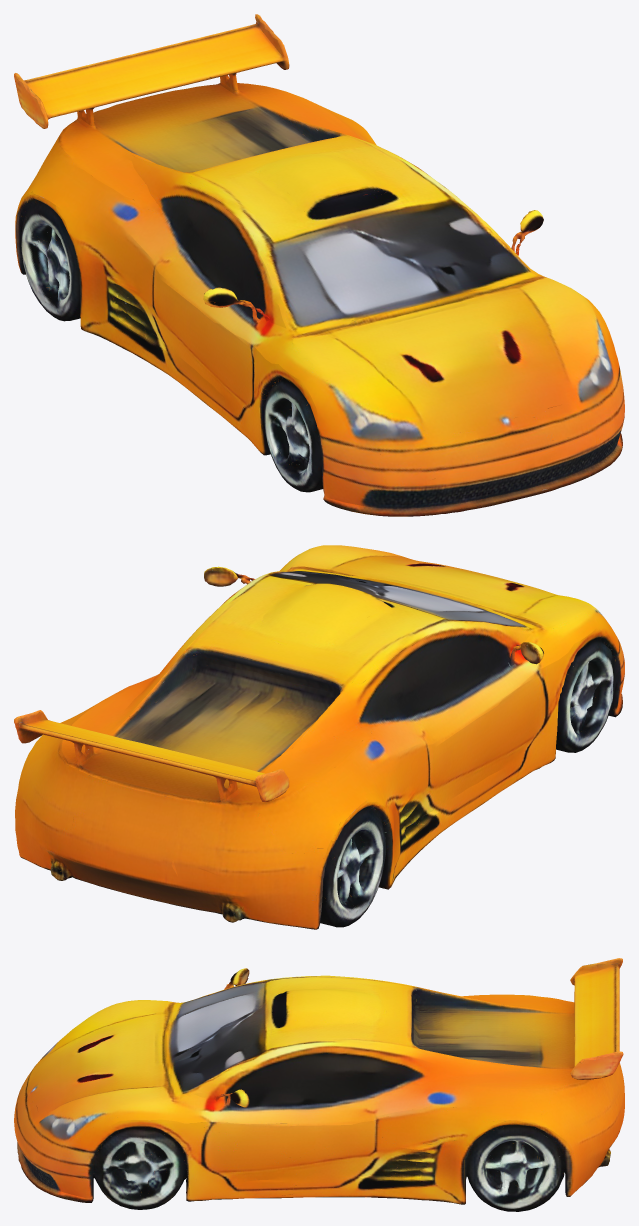
Rendered from car2.glb.
3 views of the same model, one above another, from view 1: azimuth 30°, elevation 25°; view 2: azimuth 150°, elevation 25°; view 3: azimuth 270°, elevation 25° (orthographic). The views are drawn at different scales.
Parts seen in each view (by area): view 1: Mesh; view 2: Mesh; view 3: Mesh.
Part boxes in pixels (x1,y1,x2,y2): Mesh: [14, 14, 624, 516]; Mesh: [14, 545, 624, 929]; Mesh: [14, 958, 624, 1211].
Bounding box in the file's own units: 0.965 × 0.5396 × 1.9.
1 material, 1 textured.
